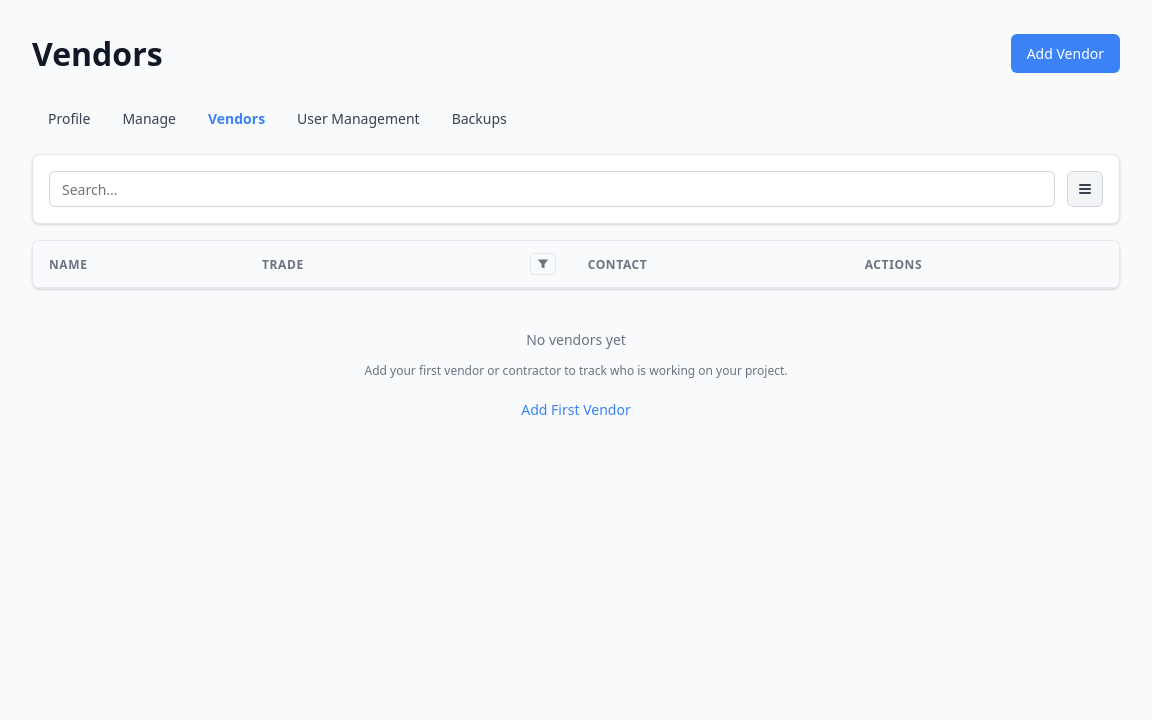
Scenario: VendorsPage › create vendor modal › shows validation error when name is blank on submit
The image size is (1152, 720).
Click the button with test id "new-vendor-button".
click(1065, 54)  # box [1011, 34, 1120, 73]
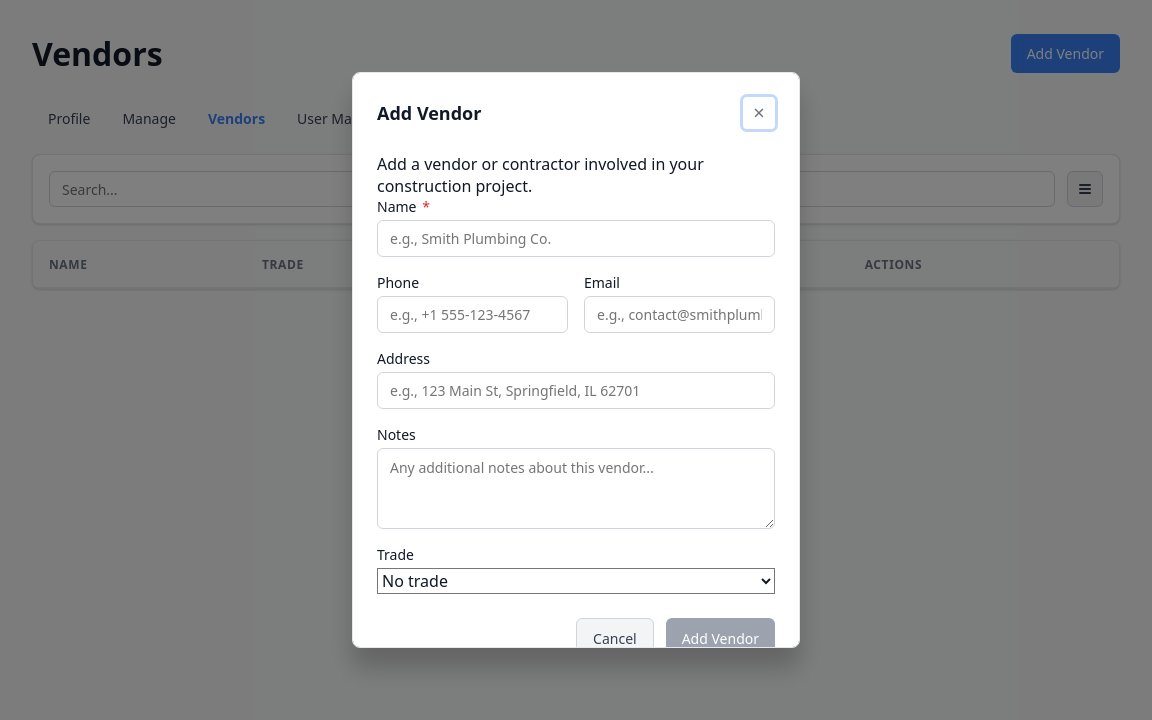
Now the form is shown
Submit the form, box [377, 197, 775, 594]
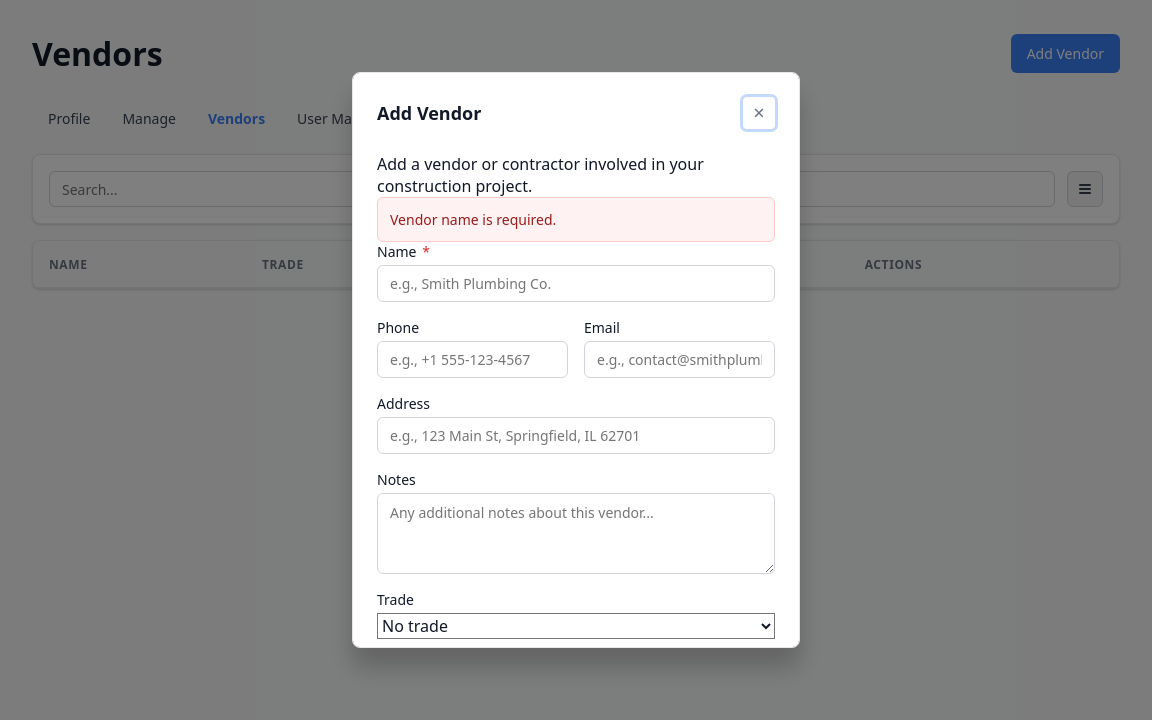
Now the message "Vendor name is required." is shown, box [377, 197, 775, 242]
